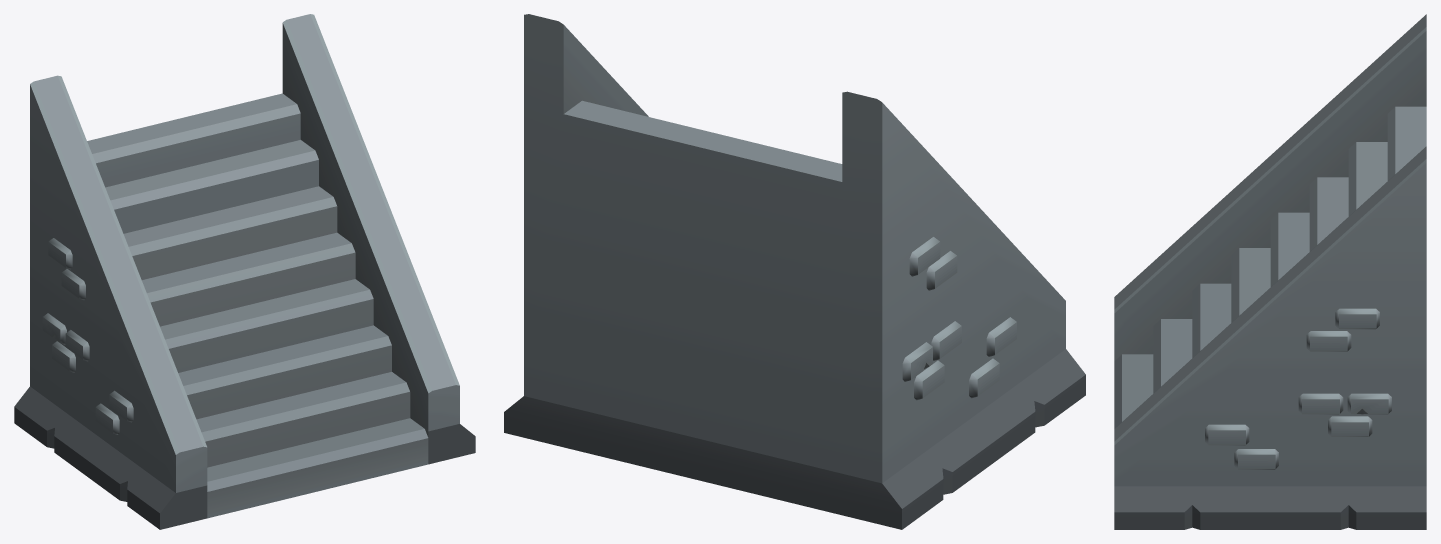
The model's file is stairs.glb.
3 renders of one model, left to right at view 1: azimuth 30°, elevation 25°; view 2: azimuth 150°, elevation 25°; view 3: azimuth 270°, elevation 25°, orthographic. The views are drawn at different scales.
Parts seen in each view (by area): view 1: stairs; view 2: stairs; view 3: stairs.
Boxes of the visible parts, left/top/right/bottom form: stairs: left=14, top=14, right=475, bottom=529; stairs: left=504, top=14, right=1085, bottom=529; stairs: left=1114, top=14, right=1426, bottom=529.
Bounding box in the file's own units: 5 × 5.1 × 4.
1 material, 1 textured.
